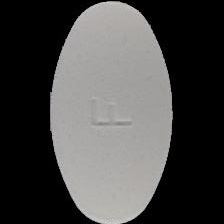16714-633: (0, 0, 224, 224)
